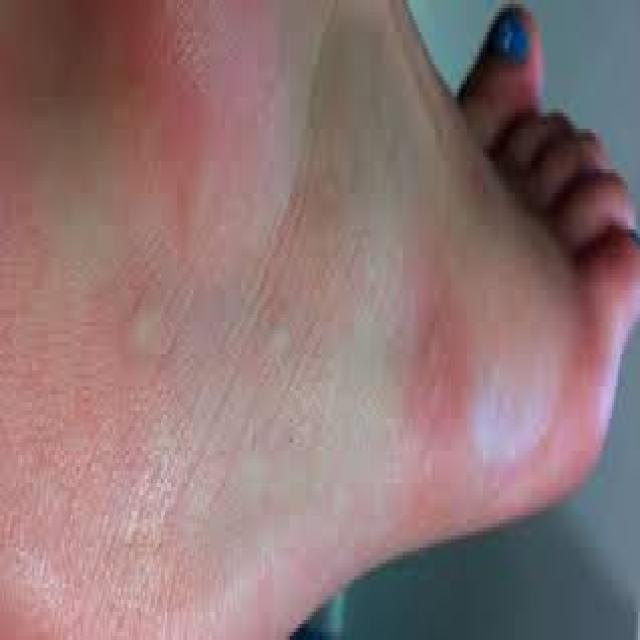sinek: (108, 272, 199, 404), (411, 288, 476, 428)
